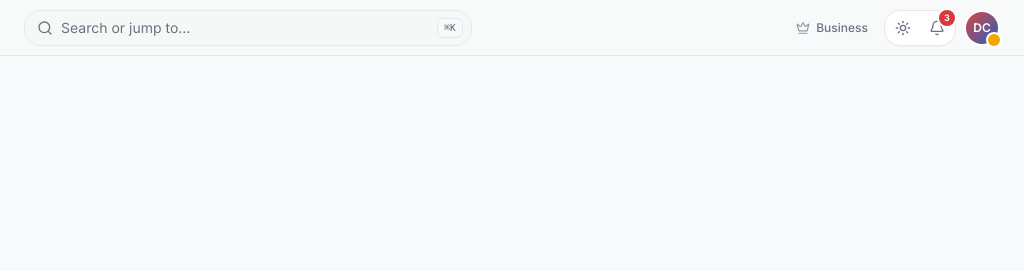
Topbar account menu › reflects a different signed-in role (admin)
What coordinates should you click on to do the following:
click the button with aria-label "Account menu"
I would click on:
 (982, 28)
Its box is [964,10,1000,46].
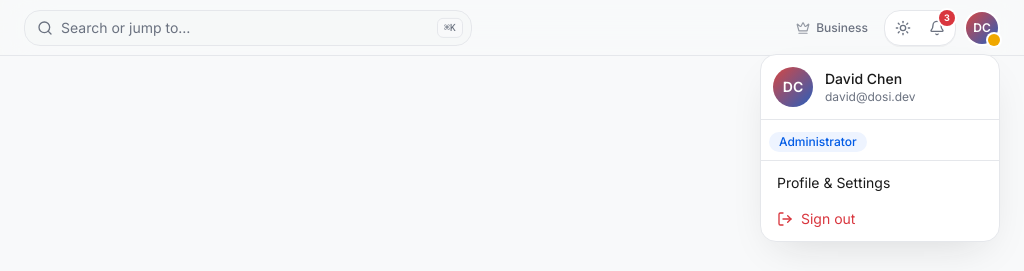
Now the text "David Chen" is shown, box [825,68,916,88]
Now the text "Administrator" is shown, box [769,132,867,152]
